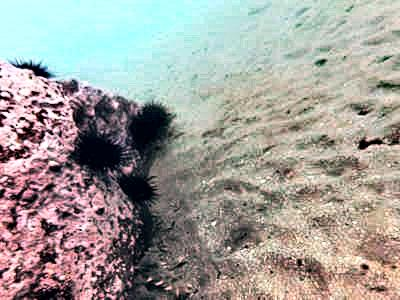urchin: (70, 127, 118, 173), (126, 101, 169, 148), (114, 171, 159, 206), (11, 58, 55, 79)
